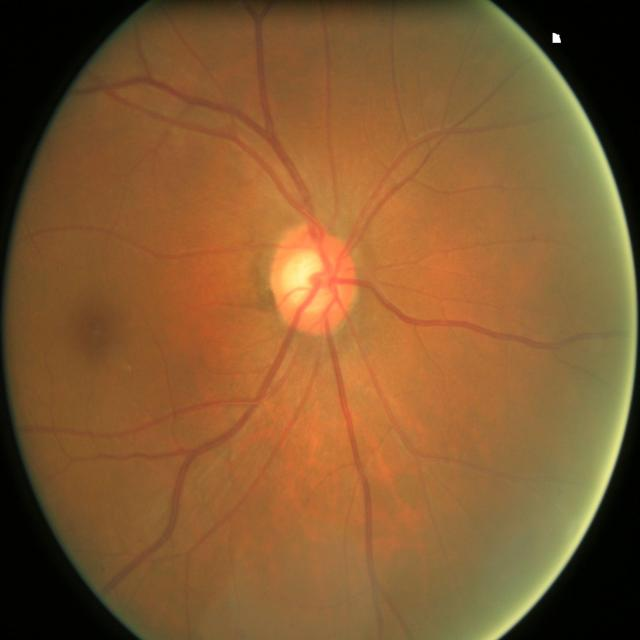OC: (283, 247, 335, 311)
OD: (268, 223, 356, 334)
